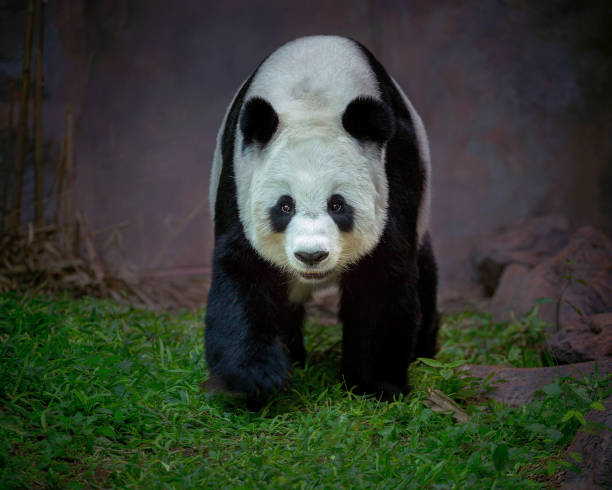panda: (224, 88, 399, 297)
